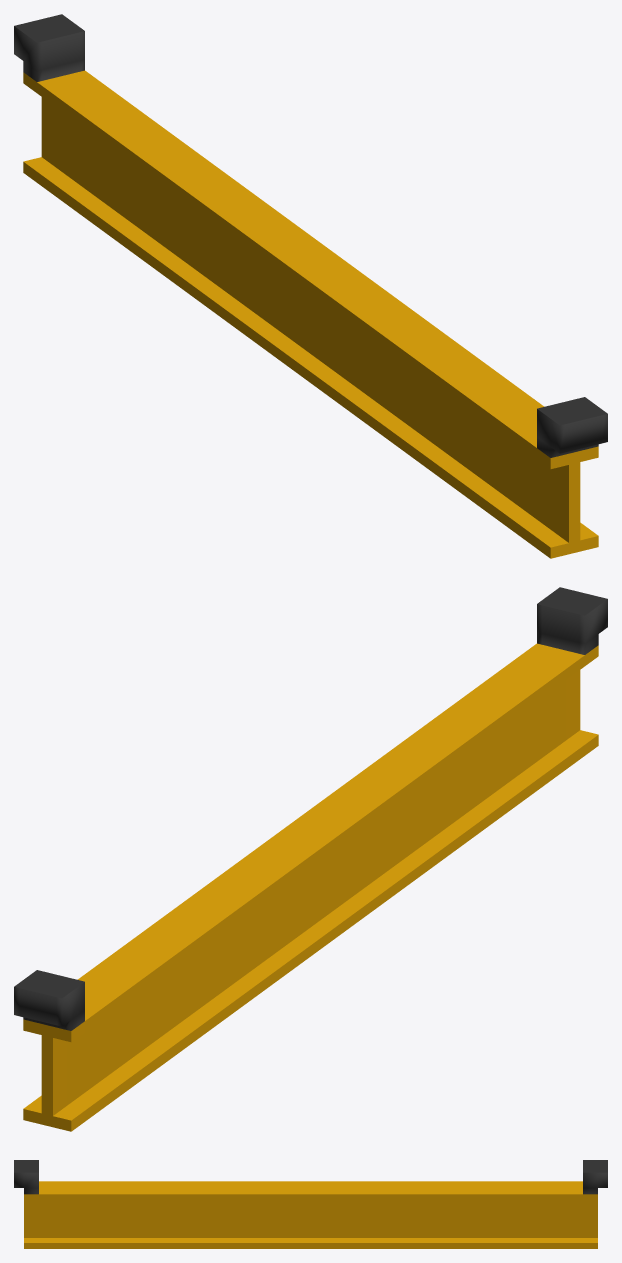
The model's file is Crane_Girder_20ft.fbx.
The picture shows the model from 3 angles, top to bottom: view 1: azimuth 30°, elevation 25°; view 2: azimuth 150°, elevation 25°; view 3: azimuth 270°, elevation 25°; orthographic projection. The views are drawn at different scales.
Visible parts, largest first — view 1: Girder_20ft; view 2: Girder_20ft; view 3: Girder_20ft.
Boxes of the visible parts, box(x1,y1,x2,y2) form: Girder_20ft: box(14, 14, 607, 558); Girder_20ft: box(14, 587, 607, 1131); Girder_20ft: box(14, 1160, 607, 1248).
Size of the model in its own units: 30.48 by 84.85 by 599.
